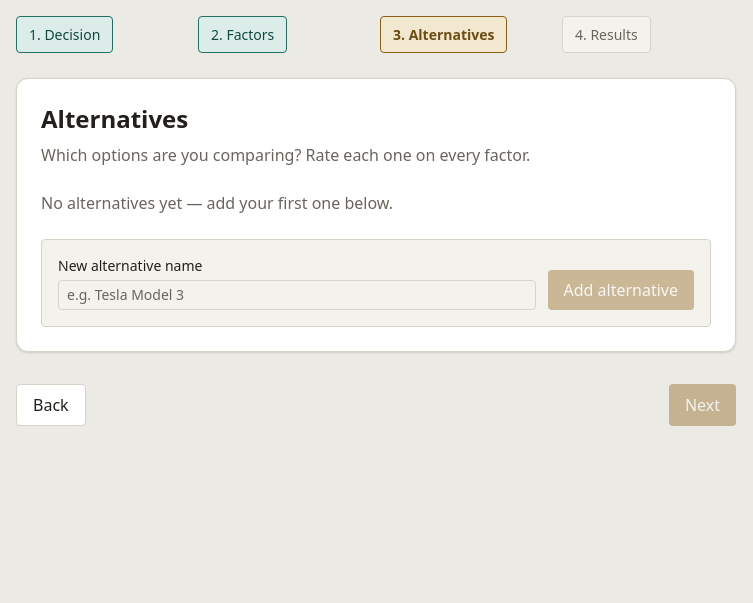
Test case: WizardProgress › lets you jump back to a completed step via its progress link
Click the link "1. Decision".
click(65, 34)  # box [16,16,113,53]
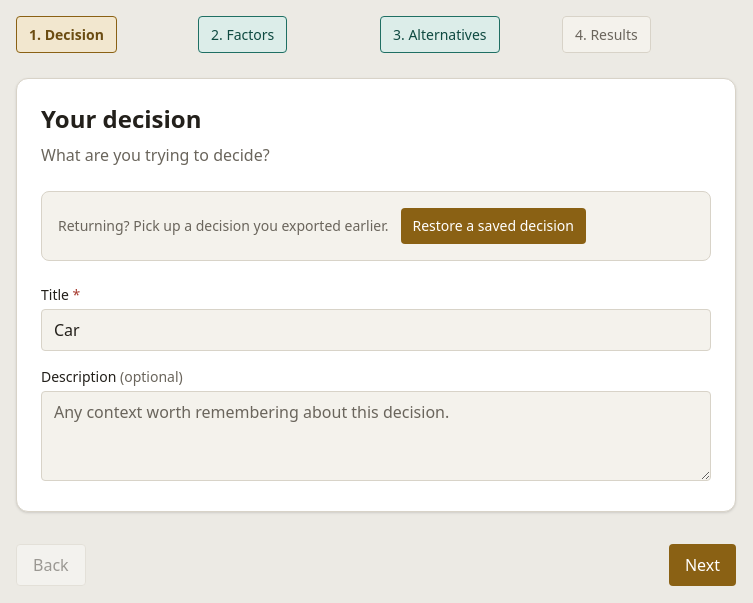
expect the element with test id "step-decision" is shown: met, box [41,103,711,487]
